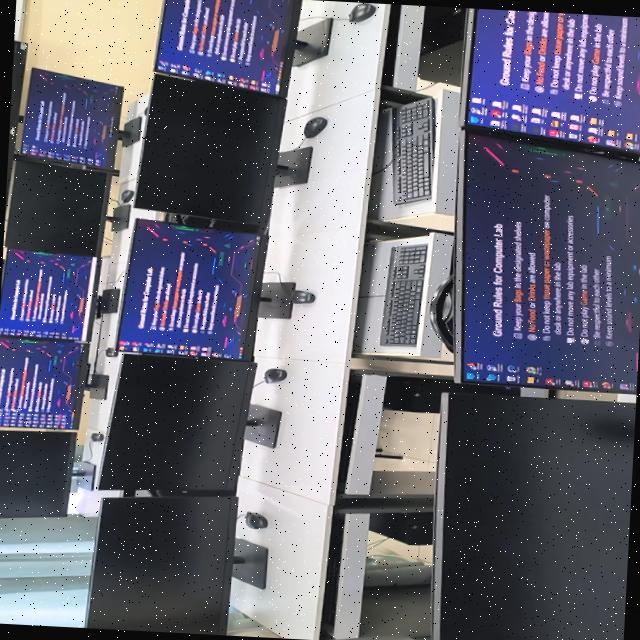Chair: (429, 273, 454, 352), (166, 212, 257, 233)
Cpu: (384, 376, 519, 412), (370, 512, 432, 544)
Keyboard: (380, 244, 427, 346), (393, 97, 435, 204)
Monitor: (433, 393, 636, 640), (455, 132, 640, 392), (135, 74, 311, 224), (464, 7, 640, 152), (99, 354, 281, 494), (85, 496, 267, 635), (116, 219, 294, 360), (155, 0, 331, 96), (20, 68, 142, 170), (6, 160, 130, 256), (0, 248, 119, 341), (0, 337, 108, 429), (0, 430, 94, 517)
Mouse: (349, 2, 376, 21), (304, 117, 327, 137), (245, 511, 267, 528), (292, 289, 315, 303), (263, 368, 286, 382), (121, 189, 133, 202), (91, 432, 103, 441), (105, 347, 116, 356)
